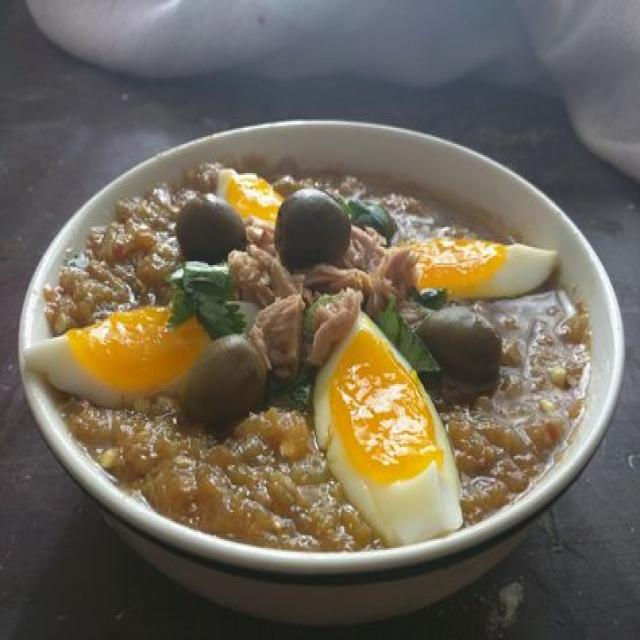Salade mechweya: (27, 65, 634, 617)
